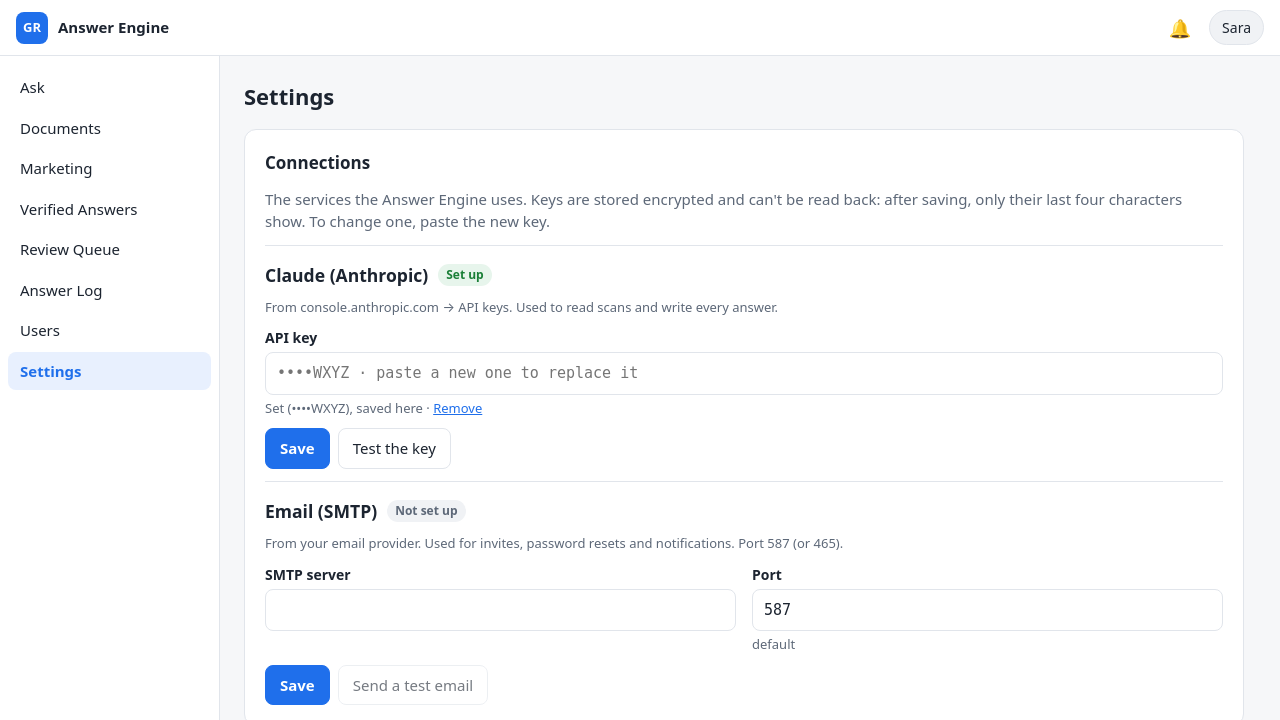
Test case: a saved key can be removed
Click the button "Remove" at (458,409), box [433, 399, 482, 418]
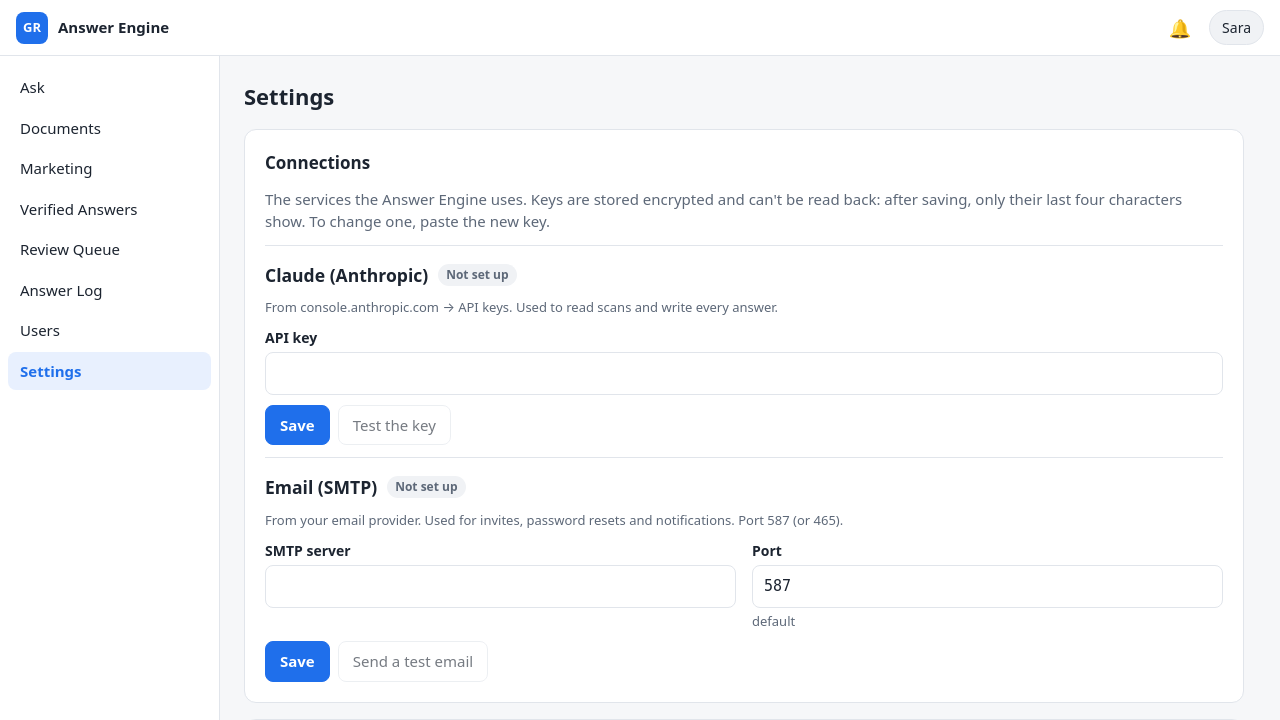
Expected: the text "Not set up" next to "Claude (Anthropic)" is shown, [446, 266, 509, 283]
